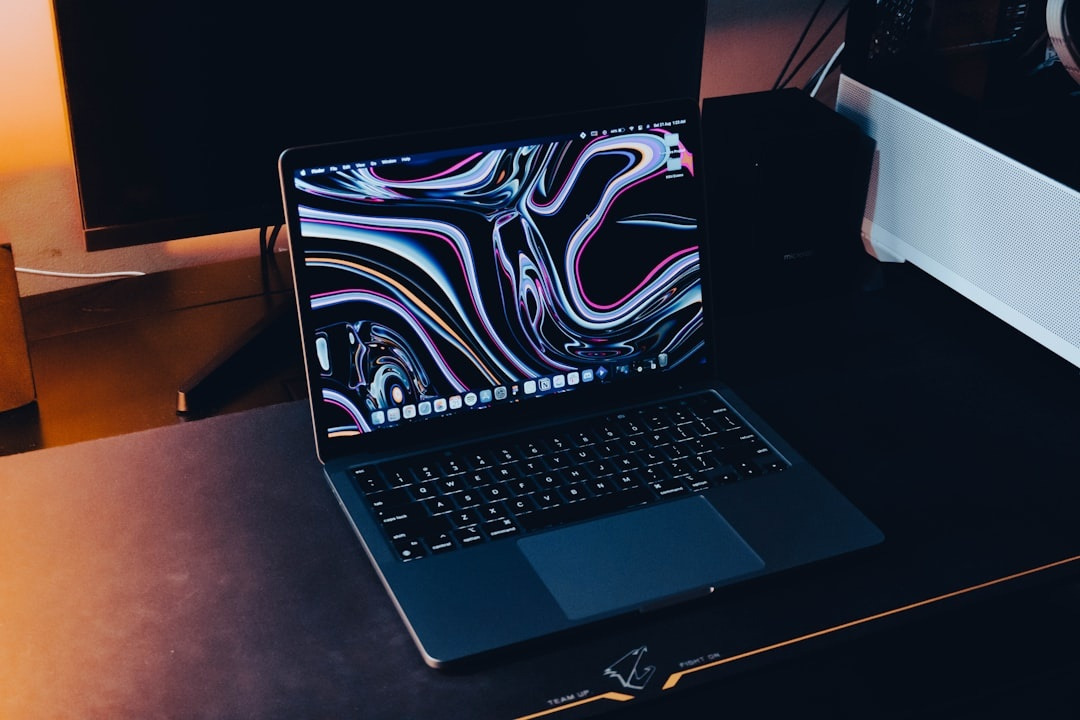laptop: (217, 108, 913, 684)
